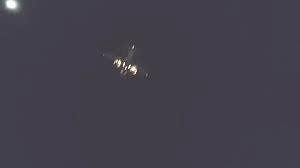Plane: (94, 28, 160, 87)
